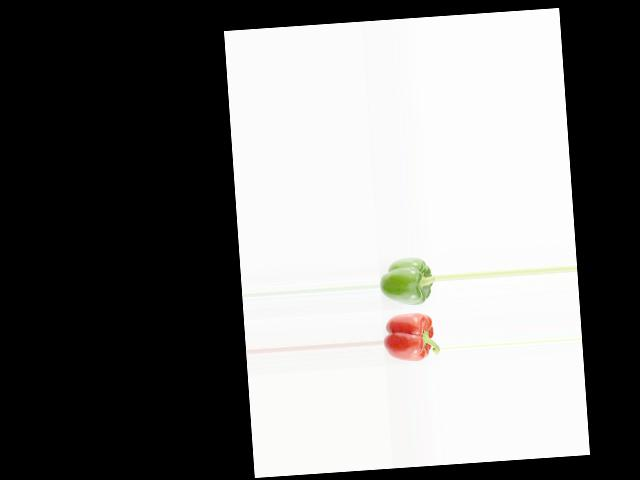bell_pepper: (380, 254, 435, 309)
